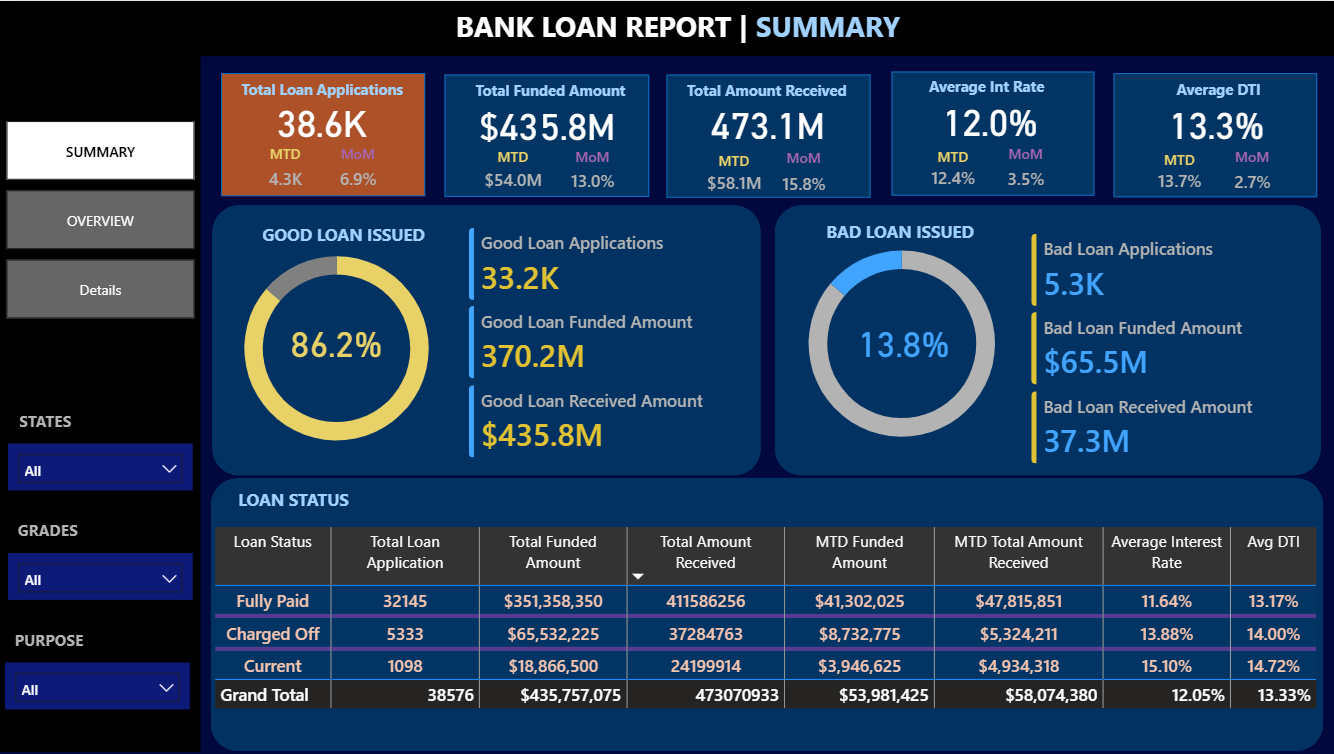

Layout of this report page (visuals, bound fields, positions):
{"tool":"powerbi","page":{"name":"SUMMARY","canvas":[1280,720],"ordinal":0},"visuals":[{"type":"shape","box":[0,52,192,664],"z":0},{"type":"shape","box":[0,0,1279.7,52.5],"z":1000},{"type":"textbox","box":[430.6,0,487.4,49.7],"z":2000},{"type":"shape","box":[849.8,67.6,193.3,118.3],"z":3000,"group":"g5"},{"type":"shape","box":[1061.5,68.5,194,118.4],"z":3000,"group":"g6"},{"type":"group","id":"g1","title":"Group 1","box":[202.9,69.1,210,120],"z":3000},{"type":"shape","box":[211,69.1,194.4,117.5],"z":3000,"group":"g1"},{"type":"shape","box":[423.7,69.7,195,116.7],"z":3000,"group":"g7"},{"type":"shape","box":[635,69.7,194.4,117.5],"z":3000,"group":"g2"},{"type":"group","id":"g2","title":"Group 1","box":[626.9,69.7,208,122],"z":4000},{"type":"card","fields":{"Values":["bank_loan_data.Total Funded Amount"]},"box":[426.6,91.1,189,50.4],"z":4000,"group":"g4"},{"type":"card","fields":{"Values":["bank_loan_data.Average Interest Rate"]},"box":[838.7,91.1,209.1,42.8],"z":4000,"group":"g5"},{"type":"card","fields":{"Values":["bank_loan_data.Total Loan Application"]},"box":[202.9,93.4,208.6,42.5],"z":4000,"group":"g1"},{"type":"card","fields":{"Values":["bank_loan_data.Avg DTI"]},"box":[1053.9,93.7,209.1,42.8],"z":4000,"group":"g6"},{"type":"card","fields":{"Values":["bank_loan_data.Total Amount Received"]},"box":[626.9,94,208.6,42.5],"z":4000,"group":"g2"},{"type":"textbox","box":[861.4,65.9,178.9,32.8],"z":5000,"group":"g5"},{"type":"textbox","box":[1097,68.9,121.5,32.4],"z":5000,"group":"g6"},{"type":"textbox","box":[225.2,69.1,180.3,32.4],"z":5000,"group":"g1"},{"type":"group","id":"g3","title":"Group 2","box":[426.6,69.7,188.3,118.3],"z":5000,"group":"g7"},{"type":"textbox","box":[447.4,69.7,165.5,32],"z":5000,"group":"g4"},{"type":"textbox","box":[649.2,69.7,180.3,32.4],"z":5000,"group":"g2"},{"type":"shape","box":[203.5,194,522.9,257.9],"z":5000},{"type":"card","title":"MTD","fields":{"Values":["bank_loan_data.MTD Loan Applications"]},"box":[246.3,136.1,53.6,52],"z":6000,"group":"g1"},{"type":"card","title":"MTD","fields":{"Values":["bank_loan_data.MTD Funded Amount"]},"box":[451.8,137.7,73.1,47.9],"z":6000,"group":"g4"},{"type":"card","title":"MTD","fields":{"Values":["bank_loan_data.MTD Avg Int Rate"]},"box":[876.5,139,65.5,45.4],"z":6000,"group":"g5"},{"type":"card","title":"MTD","fields":{"Values":["bank_loan_data.MTD Avg DTI"]},"box":[1091.7,141.6,65.5,45.4],"z":6000,"group":"g6"},{"type":"card","title":"MTD","fields":{"Values":["bank_loan_data.MTD Total Amount Received"]},"box":[667.2,142.8,65.5,45.4],"z":6000,"group":"g2"},{"type":"card","fields":{"Values":["bank_loan_data.Good Loan %"]},"box":[262.6,302.8,115.9,42.6],"z":6000},{"type":"card","title":"MoM","fields":{"Values":["bank_loan_data.MoM Loan Appliocations"]},"box":[314.8,136.1,54.8,52.7],"z":7000,"group":"g1"},{"type":"card","title":"MoM","fields":{"Values":["bank_loan_data.MoM Avg Int Rate"]},"box":[949.6,136.5,55.4,52.9],"z":7000,"group":"g5"},{"type":"card","title":"MoM","fields":{"Values":["bank_loan_data.MoM Total Funded Amount"]},"box":[527.4,137.7,73.1,50.4],"z":7000,"group":"g4"},{"type":"card","title":"MoM","fields":{"Values":["bank_loan_data.MoM Avg DTI"]},"box":[1164.8,139.1,55.4,52.9],"z":7000,"group":"g6"},{"type":"card","title":"MoM","fields":{"Values":["bank_loan_data.MoM Total Amount Received"]},"box":[737.8,140.3,55.4,52.9],"z":7000,"group":"g2"},{"type":"textbox","box":[246.1,205.8,177.4,37.9],"z":7000},{"type":"shape","box":[201.1,454.3,1060,260.3],"z":8000},{"type":"group","id":"g4","title":"Group 3","box":[426.6,69.7,189,118.4],"z":8001,"group":"g3"},{"type":"group","id":"g5","title":"Group 1","box":[838.7,65.9,209.1,123.5],"z":9000},{"type":"group","id":"g6","title":"Group 1","box":[1053.9,68.5,208.3,125],"z":10000},{"type":"group","id":"g7","title":"Group 4","box":[423.7,69.7,196,118],"z":11000},{"type":"shape","box":[738.2,194,520.5,257.9],"z":12000},{"type":"donutChart","fields":{"Category":["bank_loan_data.Good vs Bad Loan"],"Y":["bank_loan_data.Total Loan Application"]},"box":[196.4,215.3,250.8,229.5],"z":13000},{"type":"cardVisual","fields":{"Data":["bank_loan_data.Good Loan Applications","bank_loan_data.Good Loan Funded Amount","bank_loan_data.Good Loan Received Amount"]},"box":[430.6,198.7,293.4,253.2],"z":14000},{"type":"donutChart","fields":{"Category":["bank_loan_data.Good vs Bad Loan"],"Y":["bank_loan_data.Total Loan Application"]},"box":[733.5,210.6,253.2,231.9],"z":15000},{"type":"textbox","box":[783.1,203.5,175.1,45],"z":16000},{"type":"card","fields":{"Values":["bank_loan_data.Bad Loan %"]},"box":[804.4,302.8,113.6,42.6],"z":17000},{"type":"cardVisual","fields":{"Data":["bank_loan_data.Bad Loan Applications","bank_loan_data.Bad Loan Funded Amount","bank_loan_data.Bad Loan Received Amount"]},"box":[966.1,204.6,289.6,253.2],"z":18000},{"type":"tableEx","fields":{"Values":["bank_loan_data.loan_status","bank_loan_data.Total Loan Application","bank_loan_data.Total Funded Amount","bank_loan_data.Total Amount Received","bank_loan_data.MTD Funded Amount","bank_loan_data.MTD Total Amount Received","bank_loan_data.Average Interest Rate","bank_loan_data.Avg DTI"]},"box":[200,496.2,1061.6,195.3],"z":19000},{"type":"textbox","box":[222.4,459,146.7,37.9],"z":20000},{"type":"slicer","fields":{"Values":["bank_loan_data.address_state"]},"box":[8.1,420.9,176.2,44.6],"z":21000},{"type":"textbox","box":[14.2,384.8,81,36.5],"z":22000},{"type":"slicer","fields":{"Values":["bank_loan_data.grade"]},"box":[8.1,525.4,176.2,44.6],"z":23000},{"type":"textbox","box":[12.2,488.1,81,36.5],"z":24000},{"type":"slicer","fields":{"Values":["bank_loan_data.purpose"]},"box":[6.1,629.9,176.2,44.6],"z":25000},{"type":"textbox","box":[10.1,593.4,81,36.5],"z":26000},{"type":"pageNavigator","box":[6.6,113.8,179.4,188.2],"z":27000}]}

Visuals, with their boxes in screenshot pixels (x1, y1, x2, y2), scaled from the page's 1280x720 canvas onto the 1334x754 screenshot:
shape: box(0, 54, 200, 750)
shape: box(0, 0, 1333, 55)
textbox: box(449, 0, 957, 52)
shape: box(886, 71, 1087, 195)
shape: box(1106, 72, 1308, 196)
"Group 1" group: box(211, 72, 430, 198)
shape: box(220, 72, 423, 195)
shape: box(442, 73, 645, 195)
shape: box(662, 73, 864, 196)
"Group 1" group: box(653, 73, 870, 201)
card - bank_loan_data.Total Funded Amount: box(445, 95, 642, 148)
card - bank_loan_data.Average Interest Rate: box(874, 95, 1092, 140)
card - bank_loan_data.Total Loan Application: box(211, 98, 429, 142)
card - bank_loan_data.Avg DTI: box(1098, 98, 1316, 143)
card - bank_loan_data.Total Amount Received: box(653, 98, 871, 143)
textbox: box(898, 69, 1084, 103)
textbox: box(1143, 72, 1270, 106)
textbox: box(235, 72, 423, 106)
"Group 2" group: box(445, 73, 641, 197)
textbox: box(466, 73, 639, 107)
textbox: box(677, 73, 864, 107)
shape: box(212, 203, 757, 473)
"MTD" card: box(257, 143, 313, 197)
"MTD" card: box(471, 144, 547, 194)
"MTD" card: box(913, 146, 982, 193)
"MTD" card: box(1138, 148, 1206, 196)
"MTD" card: box(695, 150, 764, 197)
card - bank_loan_data.Good Loan %: box(274, 317, 394, 362)
"MoM" card: box(328, 143, 385, 198)
"MoM" card: box(990, 143, 1047, 198)
"MoM" card: box(550, 144, 626, 197)
"MoM" card: box(1214, 146, 1272, 201)
"MoM" card: box(769, 147, 827, 202)
textbox: box(256, 216, 441, 255)
shape: box(210, 476, 1314, 748)
"Group 3" group: box(445, 73, 642, 197)
"Group 1" group: box(874, 69, 1092, 198)
"Group 1" group: box(1098, 72, 1315, 203)
"Group 4" group: box(442, 73, 646, 197)
shape: box(769, 203, 1312, 473)
donutChart - bank_loan_data.Good vs Bad Loan x bank_loan_data.Total Loan Application: box(205, 225, 466, 466)
cardVisual - bank_loan_data.Good Loan Applications x bank_loan_data.Good Loan Funded Amount: box(449, 208, 755, 473)
donutChart - bank_loan_data.Good vs Bad Loan x bank_loan_data.Total Loan Application: box(764, 221, 1028, 463)
textbox: box(816, 213, 999, 260)
card - bank_loan_data.Bad Loan %: box(838, 317, 957, 362)
cardVisual - bank_loan_data.Bad Loan Applications x bank_loan_data.Bad Loan Funded Amount: box(1007, 214, 1309, 479)
tableEx - bank_loan_data.loan_status x bank_loan_data.Total Loan Application: box(208, 520, 1315, 724)
textbox: box(232, 481, 385, 520)
slicer - bank_loan_data.address_state: box(8, 441, 192, 487)
textbox: box(15, 403, 99, 441)
slicer - bank_loan_data.grade: box(8, 550, 192, 597)
textbox: box(13, 511, 97, 549)
slicer - bank_loan_data.purpose: box(6, 660, 190, 706)
textbox: box(11, 621, 95, 660)
pageNavigator: box(7, 119, 194, 316)
